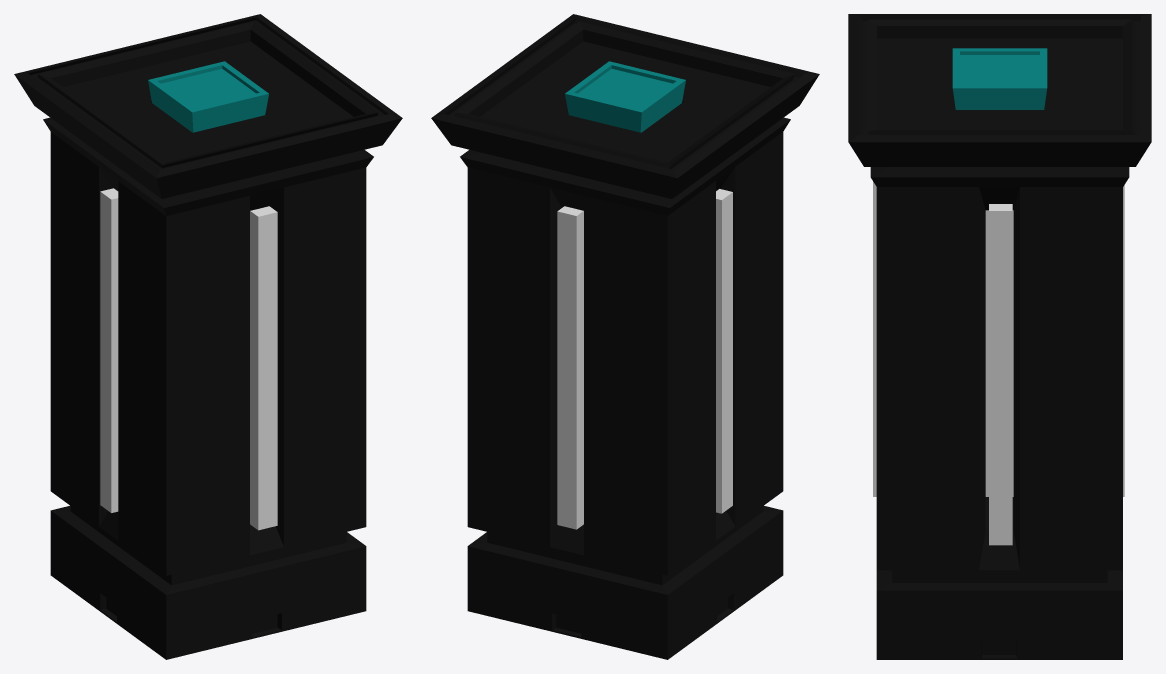
The model's file is pilierBallon.fbx.
3 renders of one model, left to right at view 1: azimuth 30°, elevation 25°; view 2: azimuth 150°, elevation 25°; view 3: azimuth 270°, elevation 25°, orthographic. The views are drawn at different scales.
Visible parts, largest first — view 1: BasePillier, Neon, SupportPuzzle; view 2: BasePillier, Neon, SupportPuzzle; view 3: BasePillier, Neon, SupportPuzzle.
Boxes of the visible parts, left/top/right/bottom form: BasePillier: left=14, top=14, right=402, bottom=659; Neon: left=100, top=188, right=277, bottom=530; SupportPuzzle: left=148, top=61, right=268, bottom=132; BasePillier: left=431, top=14, right=819, bottom=659; Neon: left=557, top=189, right=732, bottom=529; SupportPuzzle: left=565, top=61, right=685, bottom=132; BasePillier: left=848, top=14, right=1151, bottom=659; Neon: left=873, top=181, right=1124, bottom=545; SupportPuzzle: left=952, top=48, right=1047, bottom=109.
Size of the model in its own units: 29.1 by 57.15 by 29.1.
